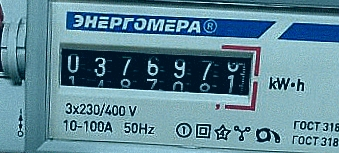0: (65, 51, 80, 73)
1: (225, 72, 235, 95)
3: (92, 55, 106, 76)
6: (145, 53, 160, 77)
7: (198, 56, 213, 80), (119, 53, 133, 76)
9: (171, 56, 186, 79)
screen: (47, 33, 264, 114)
